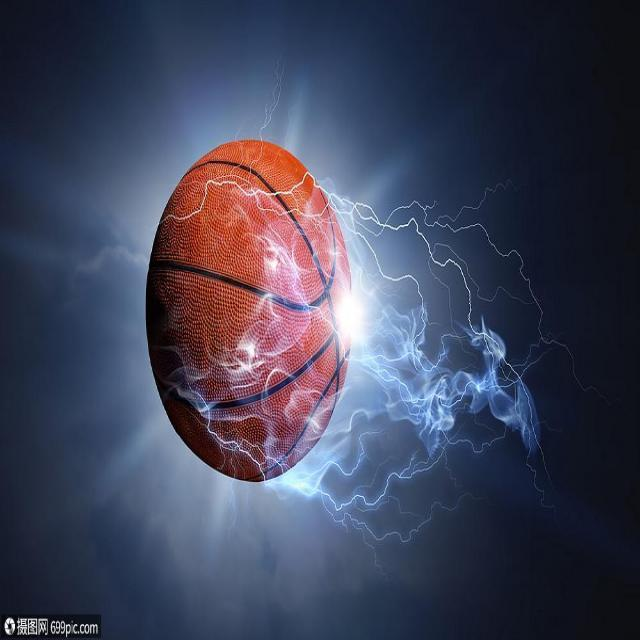rim: (148, 138, 354, 482)
